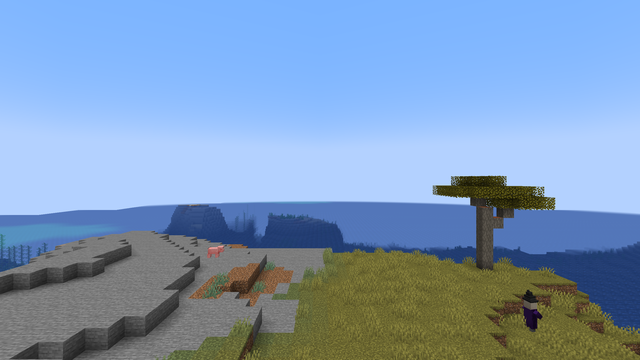cochons: (207, 246, 219, 257)
sorcieres: (521, 297, 538, 332)
